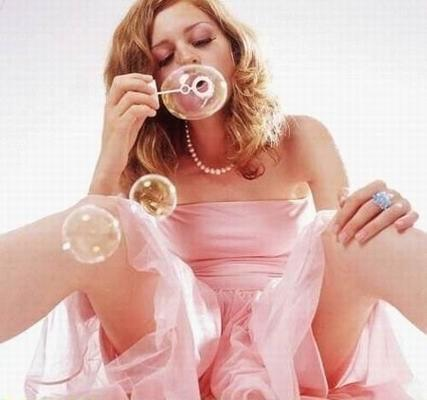person: (2, 5, 425, 398)
